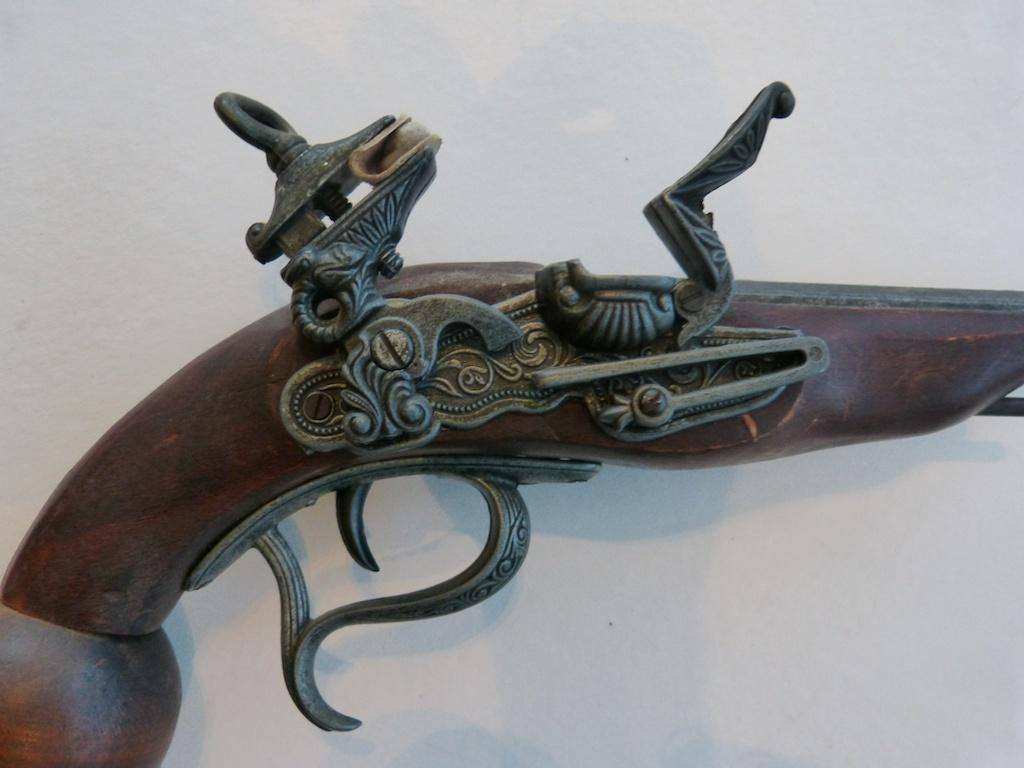Shotgun: (0, 80, 1023, 767)
